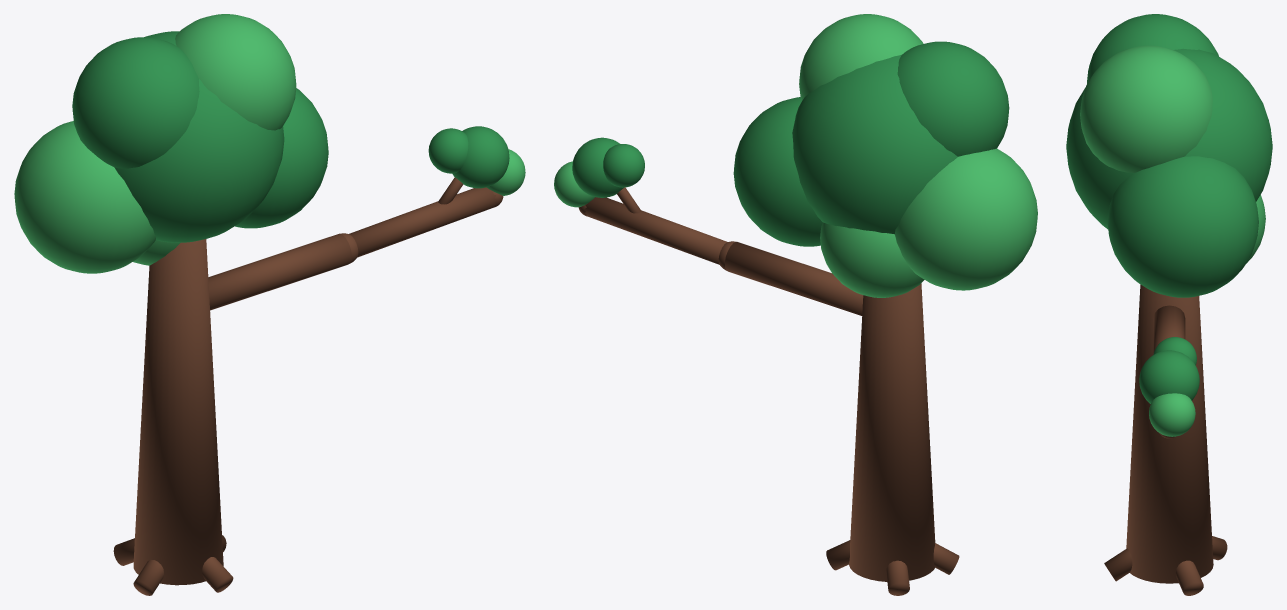
Rendered from arbol_rama.glb.
The picture shows the model from 3 angles, left to right: view 1: azimuth 30°, elevation 25°; view 2: azimuth 150°, elevation 25°; view 3: azimuth 270°, elevation 25°; orthographic projection. The views are drawn at different scales.
Visible parts, largest first — view 1: Cone, Sphere, Sphere.001, rama, Sphere.004, Sphere.003, Sphere.002, Cylinder.002, Cylinder.003; view 2: Cone, Sphere, Sphere.001, rama, Sphere.004, Sphere.002, Sphere.003, Sphere.005, Cylinder.001; view 3: Sphere.002, Cone, Sphere.003, Sphere, rama, Sphere.004, Cylinder, Cylinder.003, Sphere.005, Cylinder.001.
Boxes of the visible parts, x1,y1,x2,y2 form: Cone: (133,239,223,585); Sphere: (114,31,284,242); Sphere.001: (14,121,155,273); rama: (208,126,525,310); Sphere.004: (72,37,199,168); Sphere.003: (175,14,296,130); Sphere.002: (235,88,328,228); Cylinder.002: (133,559,163,595); Cylinder.003: (202,557,233,592); Cone: (849,283,935,581); Sphere: (792,54,957,234); Sphere.001: (895,148,1037,290); rama: (554,137,863,315); Sphere.004: (897,41,1009,156); Sphere.002: (733,97,822,246); Sphere.003: (799,14,923,100); Sphere.005: (820,222,924,297); Cylinder.001: (886,560,909,595); Sphere.002: (1107,156,1258,297); Cone: (1126,284,1213,583); Sphere.003: (1080,45,1212,172); Sphere: (1066,48,1272,229); rama: (1139,305,1199,438); Sphere.004: (1087,14,1218,83); Cylinder: (1175,560,1203,595); Cylinder.003: (1104,548,1132,581); Sphere.005: (1246,195,1265,263); Cylinder.001: (1212,536,1227,560).
Size of the model in its own units: 4.02 by 4.32 by 1.5.
